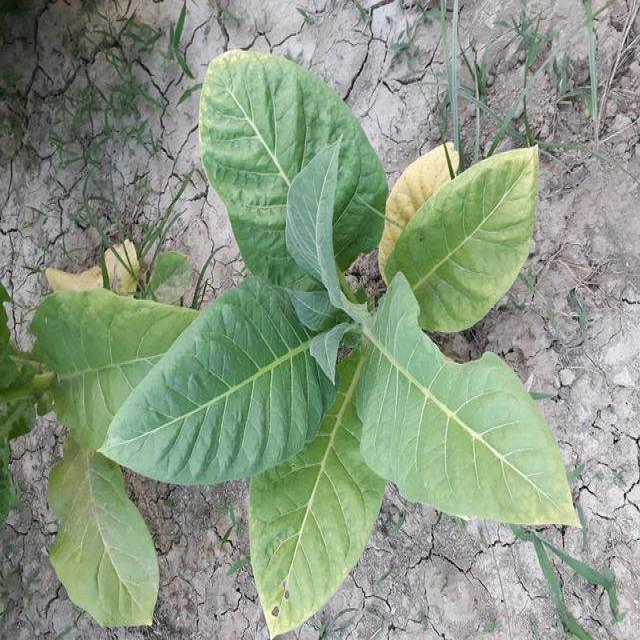crop: (126, 58, 575, 630), (8, 247, 189, 629)
